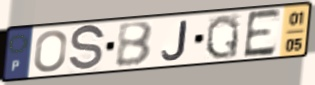B: (115, 20, 155, 69)
E: (242, 7, 283, 61)
J: (160, 19, 189, 62)
O: (32, 29, 69, 74)
Q: (204, 13, 242, 61)
S: (67, 22, 107, 74)
